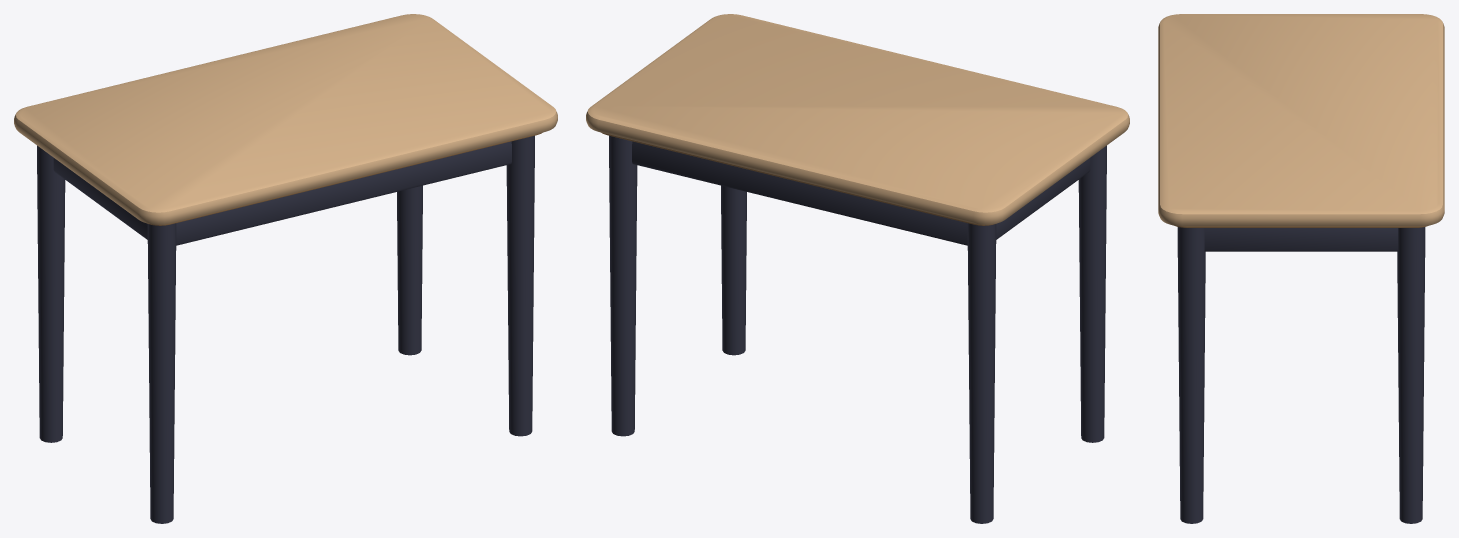
File: table_small.glb
3 renders of one model, left to right at view 1: azimuth 30°, elevation 25°; view 2: azimuth 150°, elevation 25°; view 3: azimuth 270°, elevation 25°, orthographic.
Visible parts, largest first — view 1: oak, charcoal, oak_edge; view 2: oak, charcoal, oak_edge; view 3: oak, charcoal, oak_edge.
Part boxes in pixels (left/top/right/bottom): oak: left=14, top=14, right=557, bottom=224; charcoal: left=37, top=135, right=534, bottom=523; oak_edge: left=148, top=132, right=542, bottom=225; oak: left=586, top=14, right=1129, bottom=224; charcoal: left=609, top=135, right=1106, bottom=523; oak_edge: left=601, top=132, right=995, bottom=225; oak: left=1158, top=14, right=1444, bottom=226; charcoal: left=1177, top=227, right=1425, bottom=523; oak_edge: left=1173, top=225, right=1429, bottom=227.
Bounding box in the file's own units: 1 × 0.74 × 0.6.
